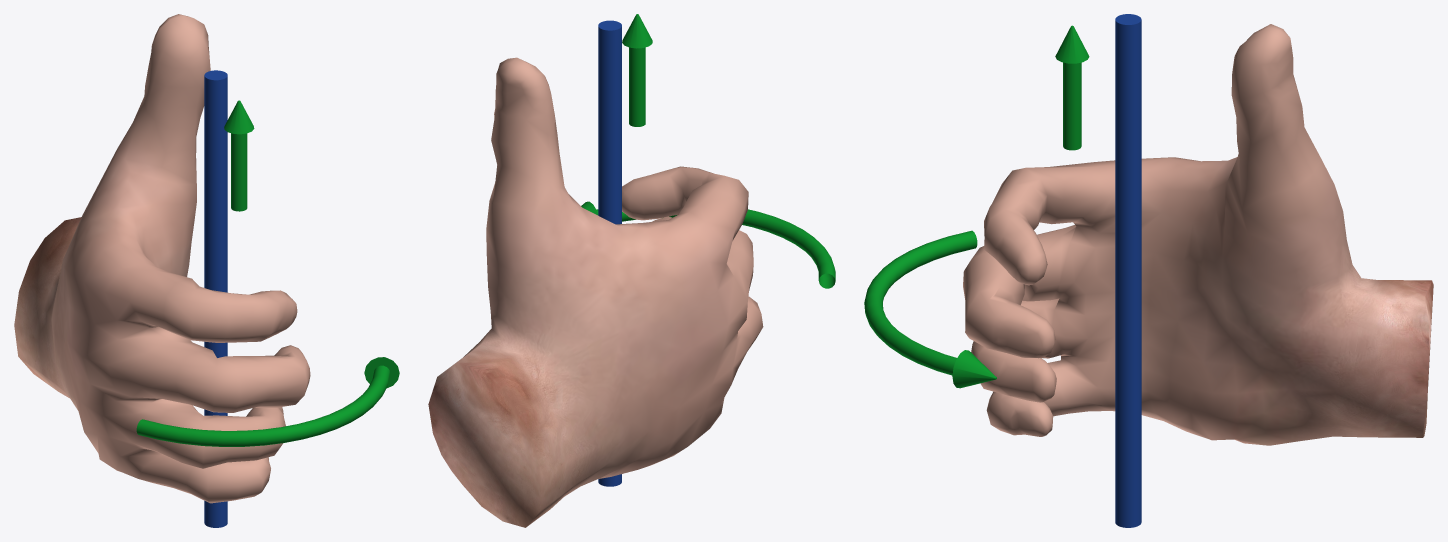
File: RightHandGrip-gltfreport.glb
3 views of the same model, side by side, from view 1: azimuth 30°, elevation 25°; view 2: azimuth 150°, elevation 25°; view 3: azimuth 270°, elevation 25° (orthographic). The views are drawn at different scales.
Visible parts, largest first — view 1: AvatarBody.006, BezierCurve, Cylinder; view 2: AvatarBody.006, Cylinder, BezierCurve; view 3: AvatarBody.006, Cylinder, BezierCurve.
Boxes of the visible parts, x1,y1,x2,y2 form: AvatarBody.006: (14,14,310,503); BezierCurve: (136,100,399,446); Cylinder: (204,70,227,527); AvatarBody.006: (428,57,763,527); Cylinder: (598,20,621,486); BezierCurve: (581,14,835,288); AvatarBody.006: (963,24,1433,445); Cylinder: (1115,14,1141,527); BezierCurve: (864,25,1089,388).
Bounding box in the file's own units: 0.1093 × 0.1825 × 0.1844.
3 materials, 1 textured.
